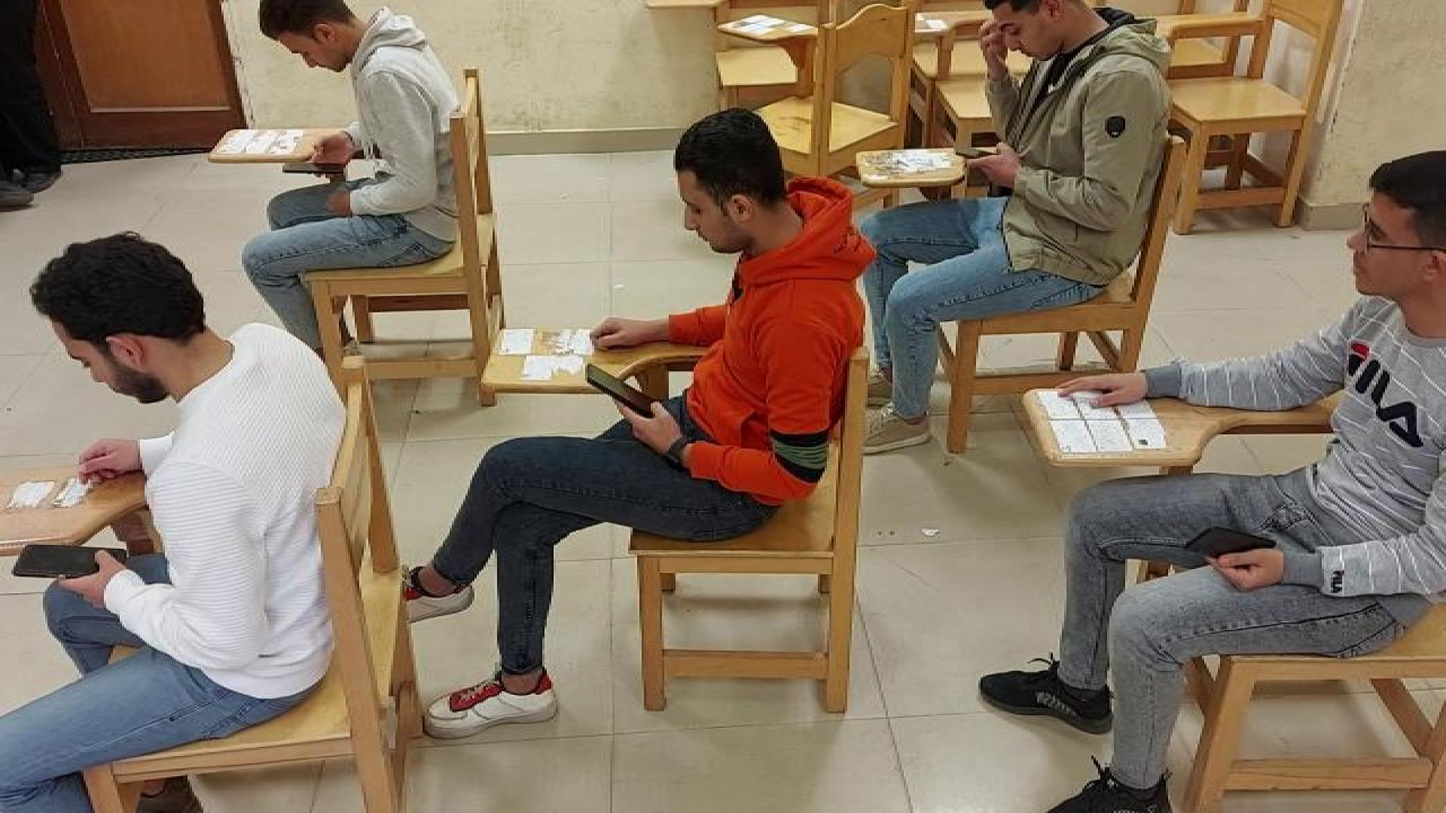phone: (584, 362, 661, 412), (1183, 523, 1278, 561), (8, 545, 128, 574), (281, 160, 347, 177), (953, 143, 999, 164)
